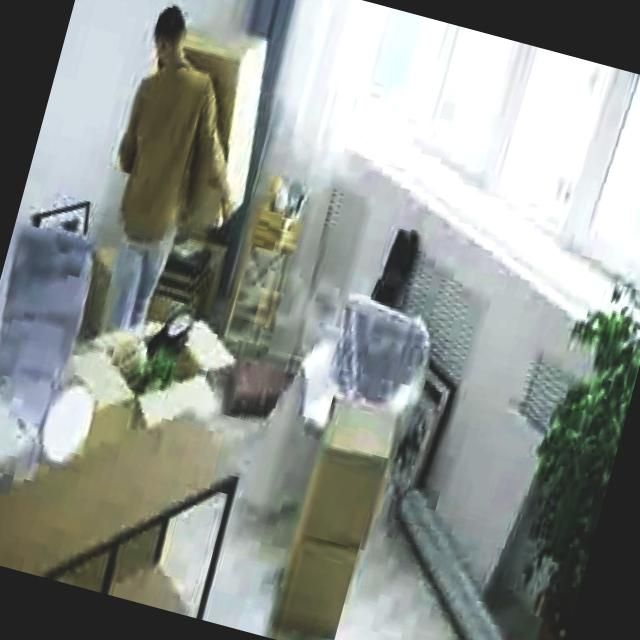Box: (300, 391, 402, 544), (267, 528, 365, 640)
